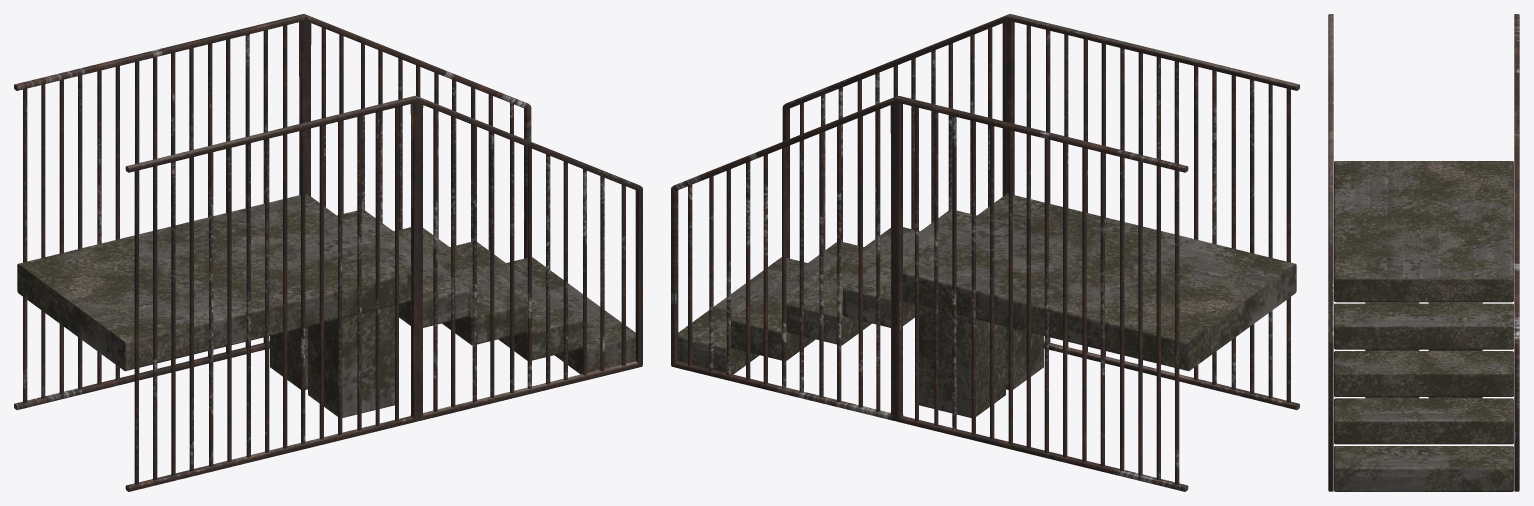
Rendered from Staircase Half.fbx.
3 renders of one model, left to right at view 1: azimuth 30°, elevation 25°; view 2: azimuth 150°, elevation 25°; view 3: azimuth 270°, elevation 25°, orthographic. The views are drawn at different scales.
Parts seen in each view (by area): view 1: escada; view 2: escada; view 3: escada.
Part boxes in pixels (x1,y1,x2,y2): escada: (14,14,642,491); escada: (671,14,1299,491); escada: (1328,14,1519,491).
Size of the model in its own units: 2.74 by 1.65 by 1.06.
Materials: 1 (1 with a texture image).
